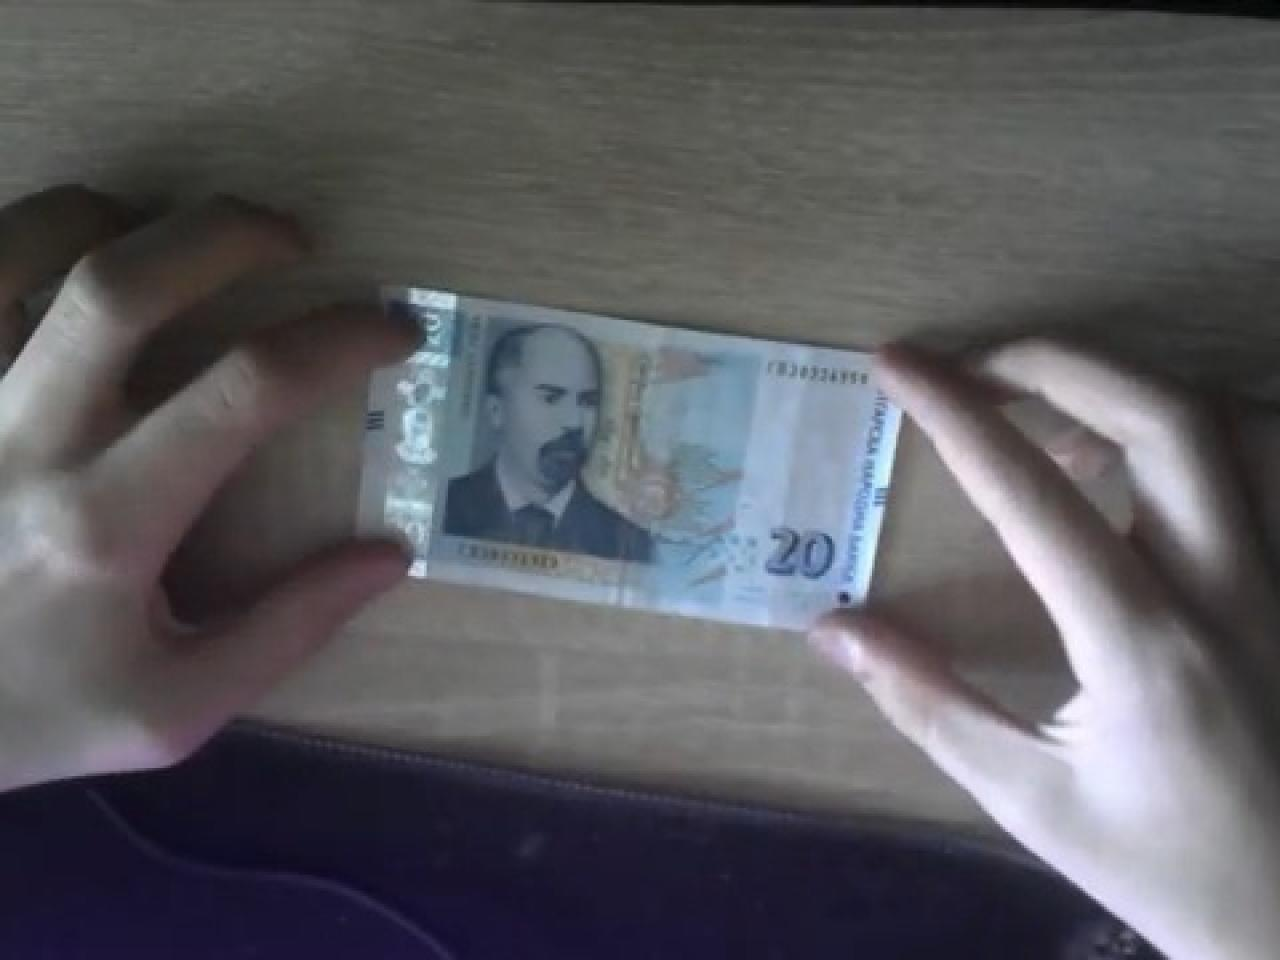20leva: (358, 288, 907, 629)
